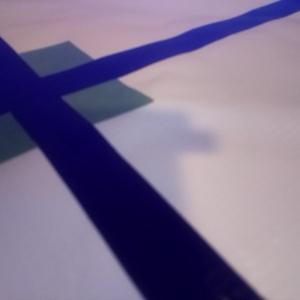bottom_left: (1, 77, 62, 162)
bottom_right: (19, 78, 152, 124)
top_right: (1, 41, 94, 86)
